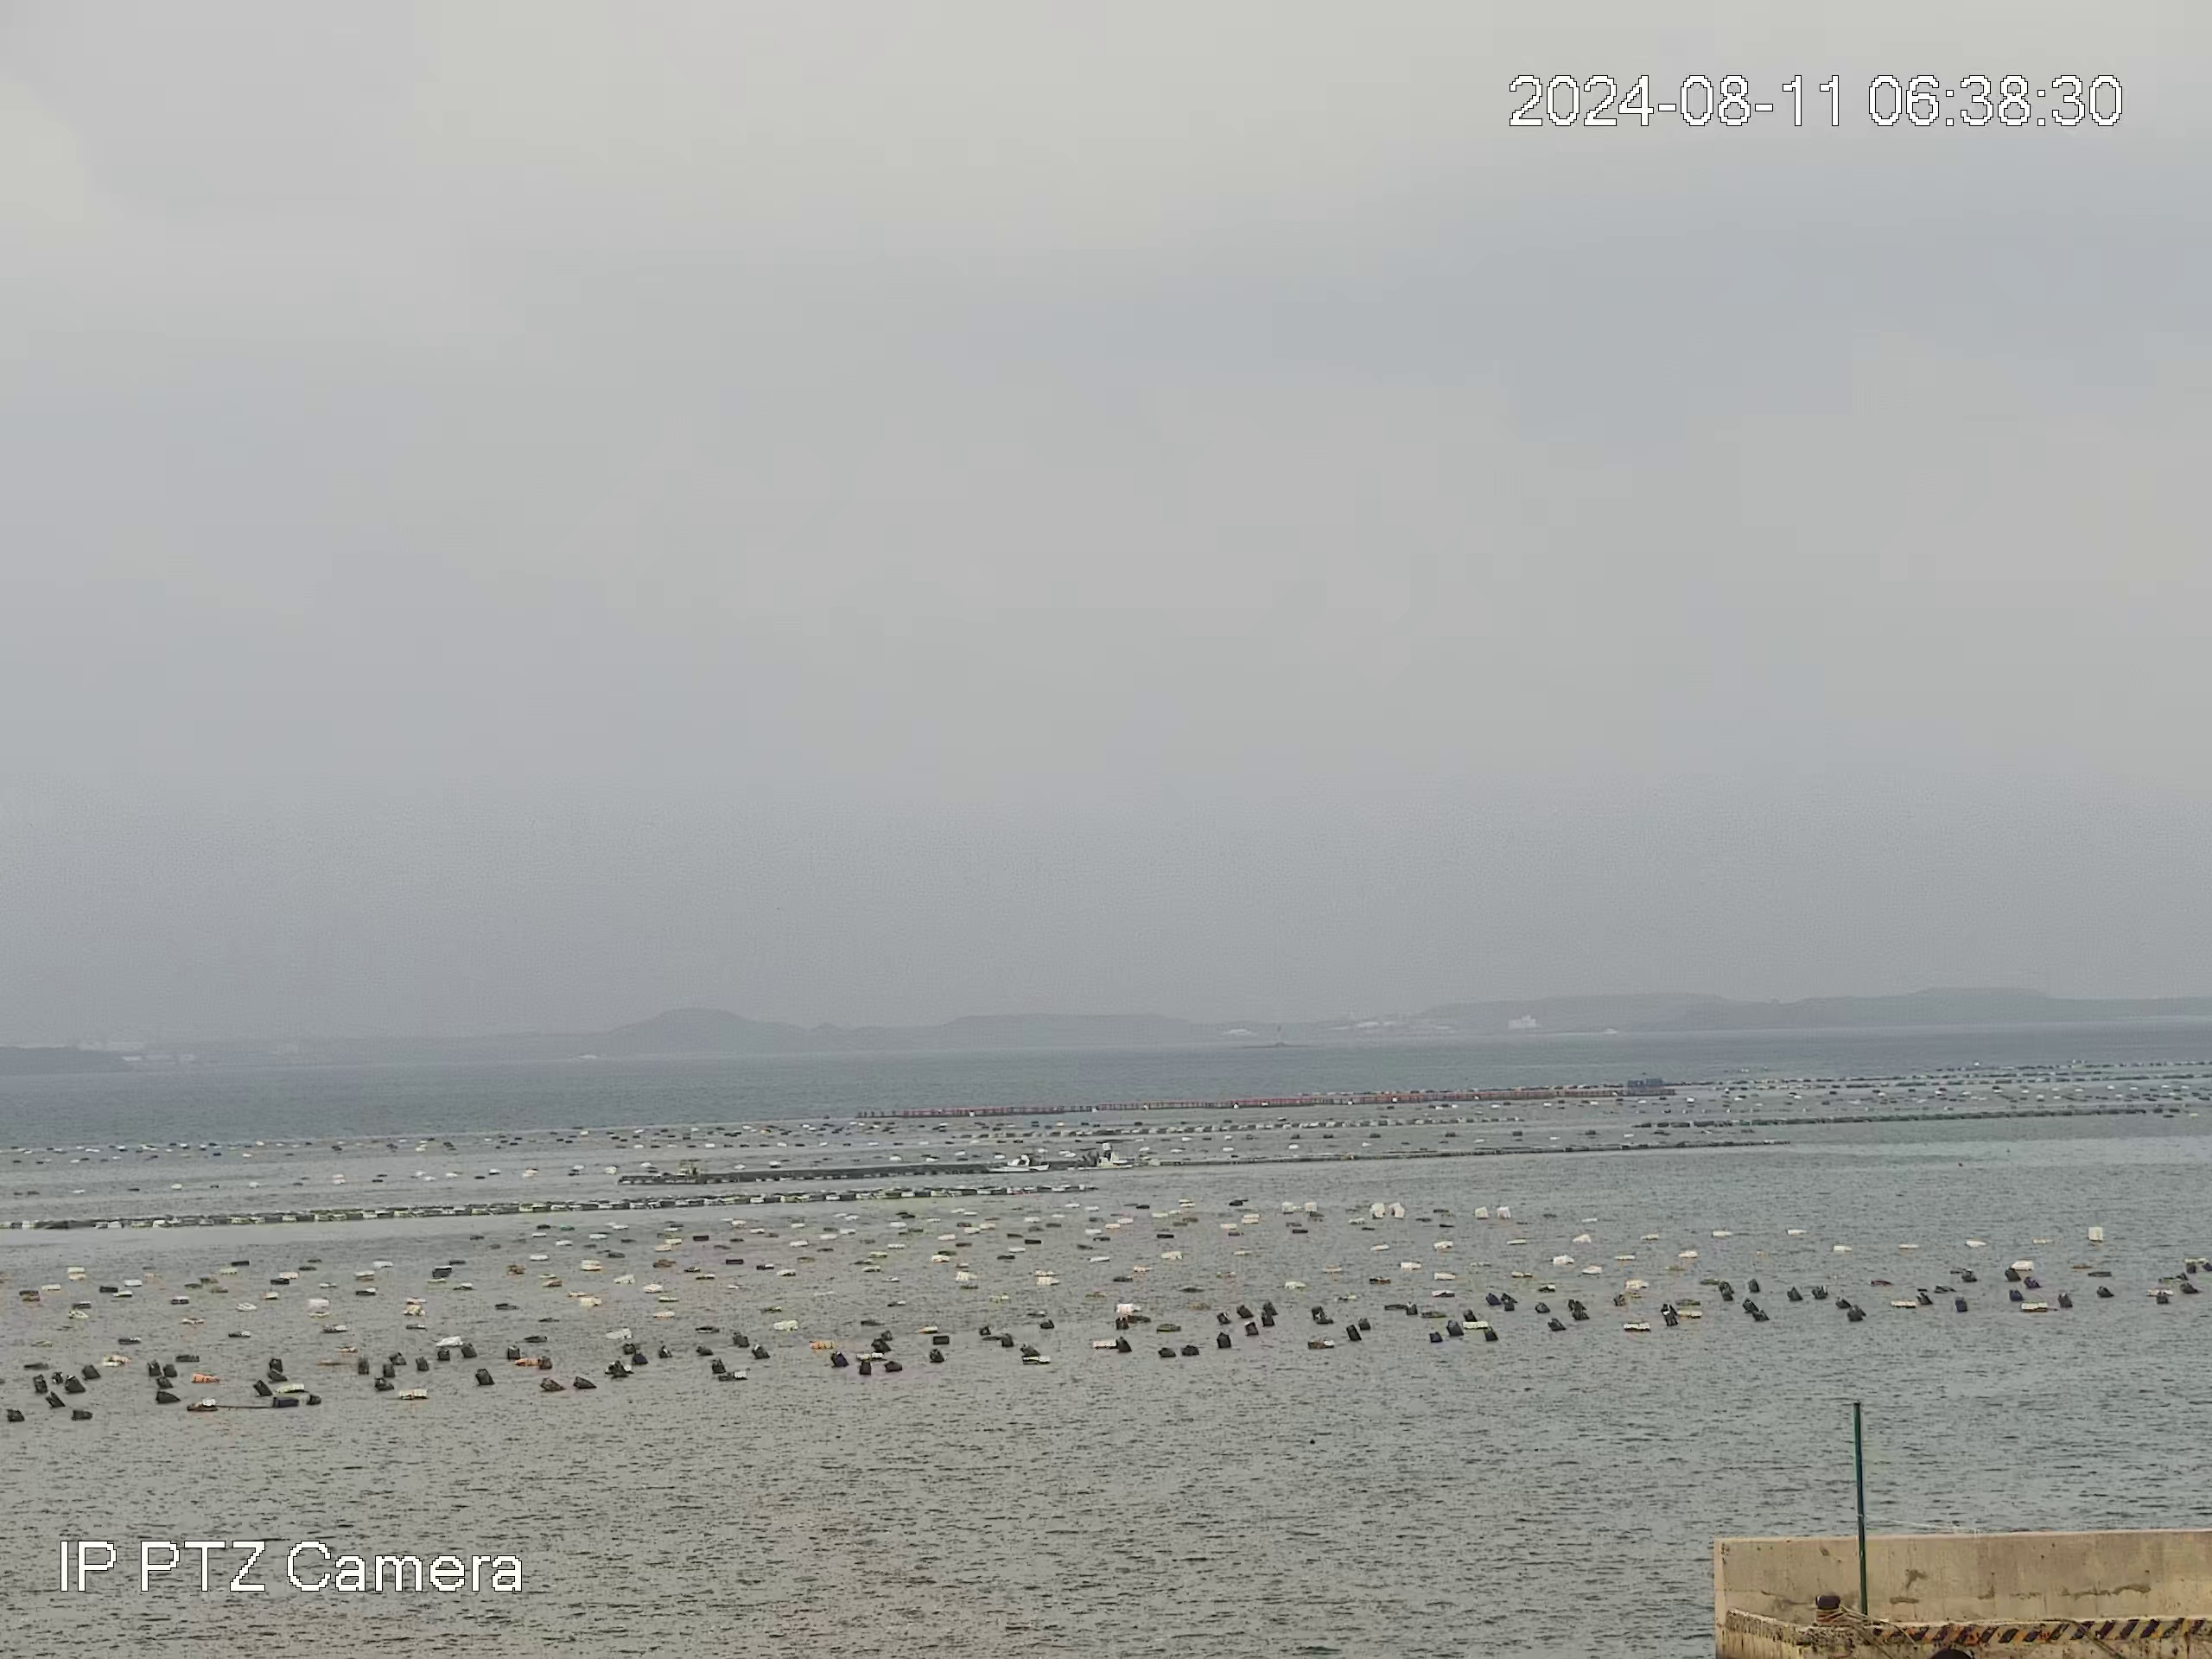boat: (1064, 1147, 1134, 1171), (984, 1154, 1052, 1173)
